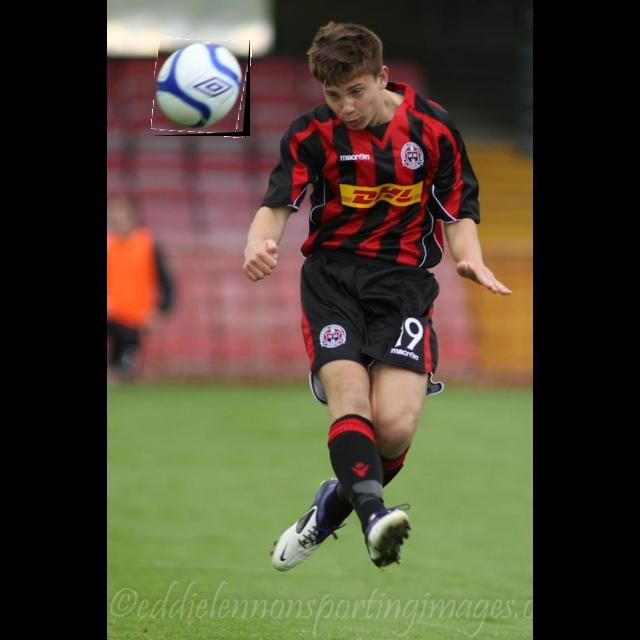Football: (154, 40, 250, 136)
